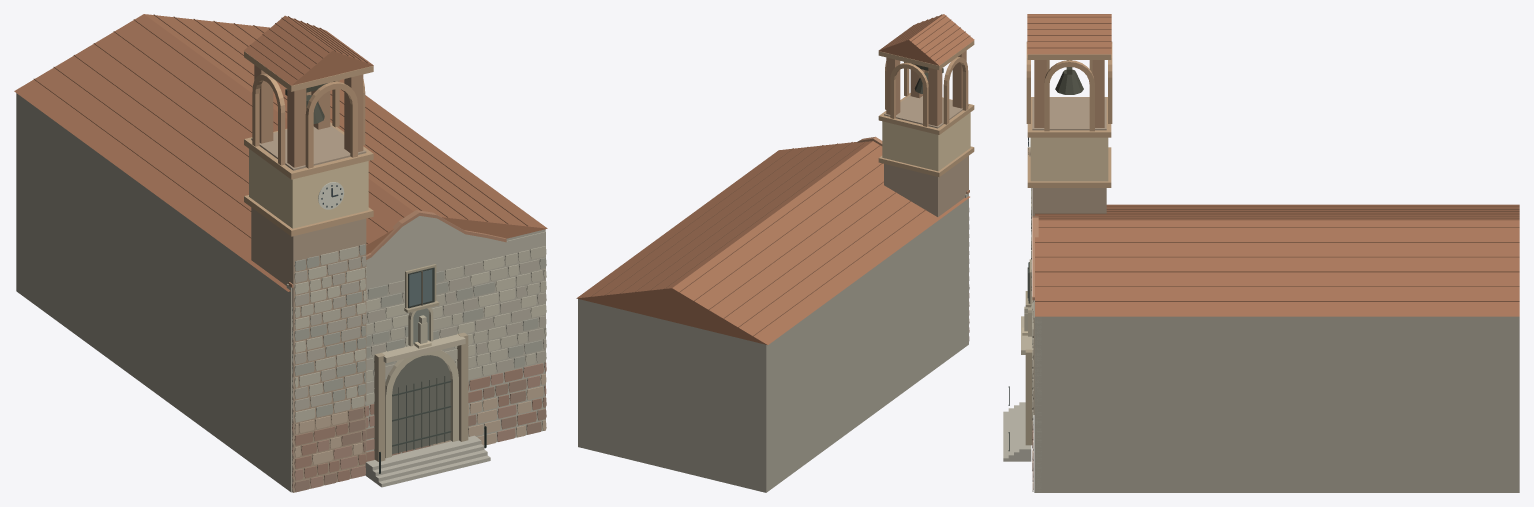
File: church.glb
3 views of the same model, side by side, from view 1: azimuth 30°, elevation 25°; view 2: azimuth 150°, elevation 25°; view 3: azimuth 270°, elevation 25° (orthographic). The views are drawn at different scales.
Visible parts, largest first — view 1: church Town #b6b0a0, church Town #ad795b, church Town #bdb8a7, church Town #b8a38c, church Town #bdb7a6, church Town #c5bfac, church Town #b2b0a2, church Town #dfcba7, church Town #797a6d, church Town #94694f, church Town #cbc5b1, church Town #bb9576 (+13 smaller); view 2: church Town #b6b0a0, church Town #ad795b, church Town #94694f, church Town #b8a38c, church Town #dfcba7, church Town #bb9576, church Town #c6a27f, church Town #c8a885; view 3: church Town #b6b0a0, church Town #ad795b, church Town #94694f, church Town #b8a38c, church Town #dfcba7, church Town #c8a885, church Town #c6a27f, church Town #bb9576, church Town #c1bcae, church Town #bdb8a7, church Town #b9aa91.
Boxes of the visible parts, x1,y1,x2,y2 form: church Town #b6b0a0: (16,93,545,491); church Town #ad795b: (14,14,547,291); church Town #bdb8a7: (286,216,545,492); church Town #b8a38c: (251,125,366,492); church Town #bdb7a6: (292,256,546,421); church Town #c5bfac: (292,246,546,422); church Town #b2b0a2: (292,244,546,417); church Town #dfcba7: (249,149,368,228); church Town #797a6d: (392,355,450,454); church Town #94694f: (34,14,527,243); church Town #cbc5b1: (292,256,546,387); church Town #bb9576: (254,65,363,167); church Town #b6b0a0: (578,198,968,492); church Town #ad795b: (576,14,974,344); church Town #94694f: (591,14,970,336); church Town #b8a38c: (884,95,968,216); church Town #dfcba7: (882,112,970,171); church Town #bb9576: (886,50,966,126); church Town #c6a27f: (885,57,968,126); church Town #c8a885: (878,40,974,177); church Town #b6b0a0: (1035,316,1519,492); church Town #ad795b: (1027,14,1519,316); church Town #94694f: (1027,14,1519,301); church Town #b8a38c: (1032,97,1106,414); church Town #dfcba7: (1030,137,1108,181); church Town #c8a885: (1027,54,1111,187); church Town #c6a27f: (1026,42,1112,131); church Town #bb9576: (1034,60,1104,127); church Town #c1bcae: (1003,402,1031,461); church Town #bdb8a7: (1034,300,1041,492); church Town #b9aa91: (1025,349,1032,445).
Bounding box in the file's own units: 12.01 × 19.1 × 23.23.
